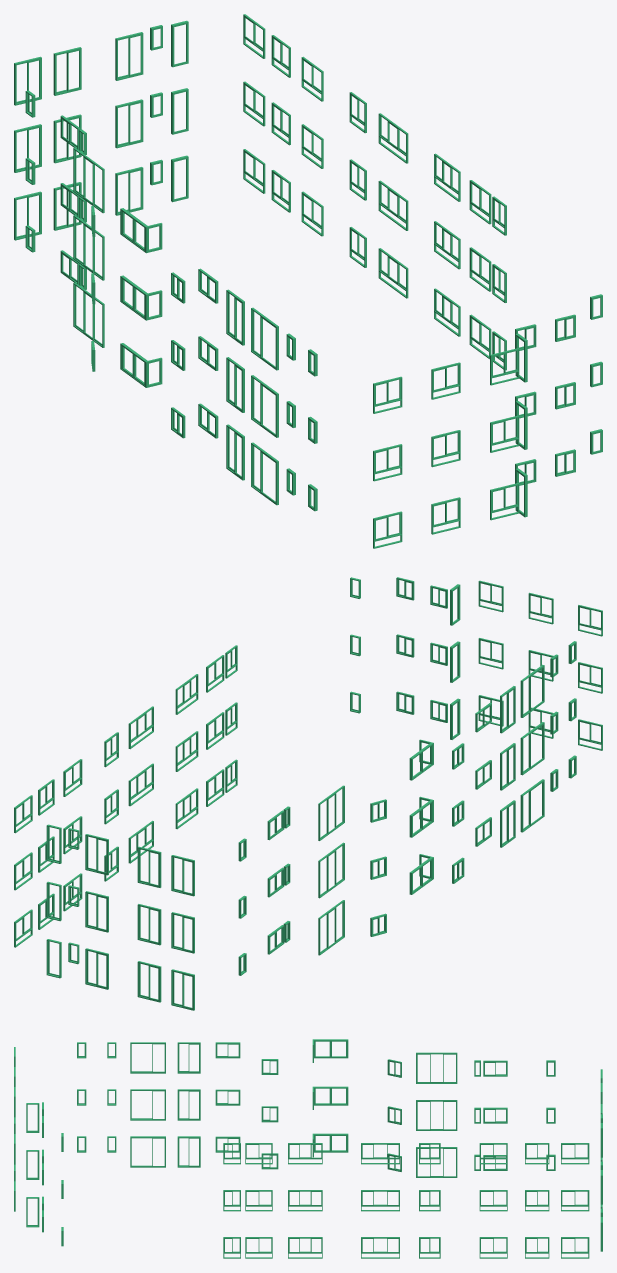
File: component-frames.gltf
3 renders of one model, top to bottom at view 1: azimuth 30°, elevation 25°; view 2: azimuth 150°, elevation 25°; view 3: azimuth 270°, elevation 25°, orthographic. The views are drawn at different scales.
Parts seen in each view (by area): view 1: 窗框; view 2: 窗框; view 3: 窗框.
Boxes of the visible parts, <box> form: 窗框: <box>14,14,602,548</box>; 窗框: <box>14,577,602,1010</box>; 窗框: <box>14,1039,602,1258</box>.
Bounding box in the file's own units: 15.67 × 9.3 × 38.52.
